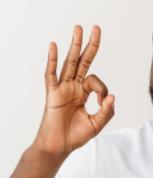left: (39, 20, 118, 153)
